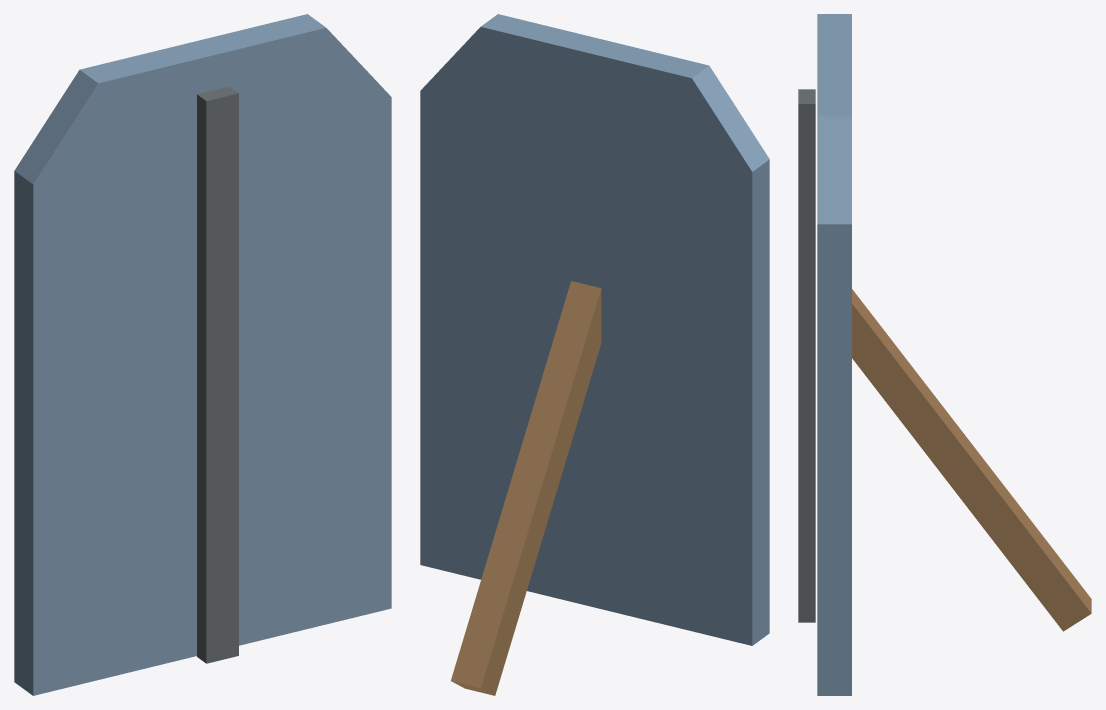
Rendered from shield-pavise.glb.
3 views of the same model, side by side, from view 1: azimuth 30°, elevation 25°; view 2: azimuth 150°, elevation 25°; view 3: azimuth 270°, elevation 25° (orthographic). The views are drawn at different scales.
Visible parts, largest first — view 1: shield-pavise; view 2: shield-pavise; view 3: shield-pavise.
Boxes of the visible parts, x1,y1,x2,y2 form: shield-pavise: (14,14,391,695); shield-pavise: (420,14,769,695); shield-pavise: (798,14,1091,695).
Bounding box in the file's own units: 1.1 × 1.78 × 0.8459.
